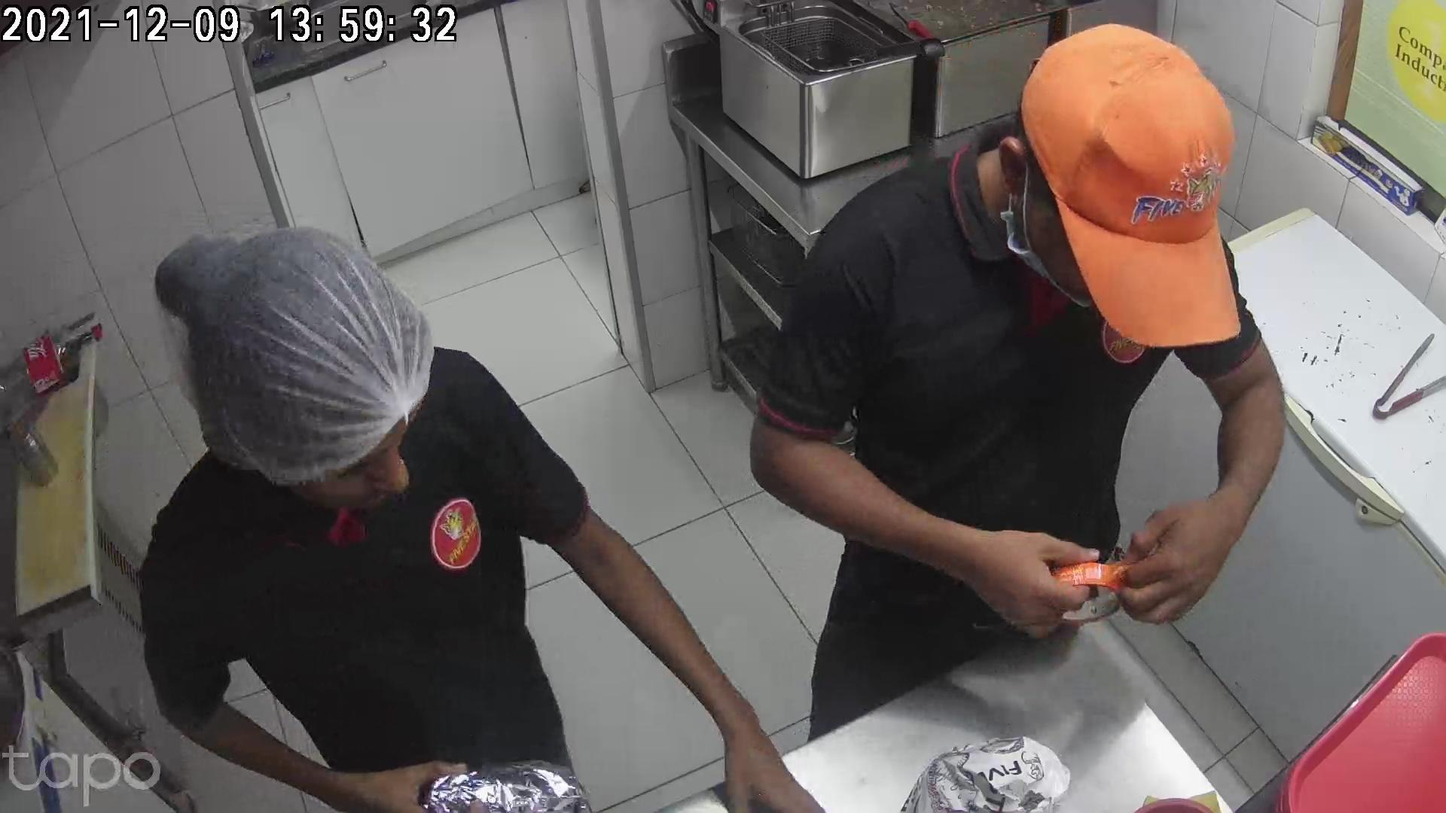no_gloves: (911, 520, 1067, 638)
